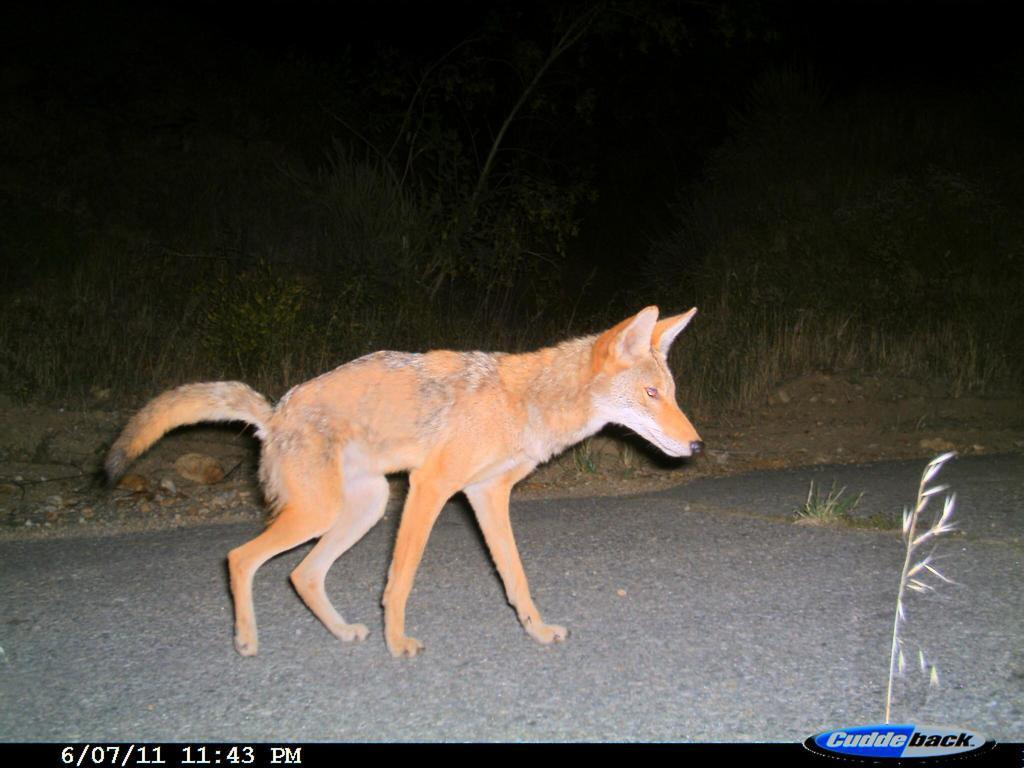coyote: (97, 303, 708, 661)
